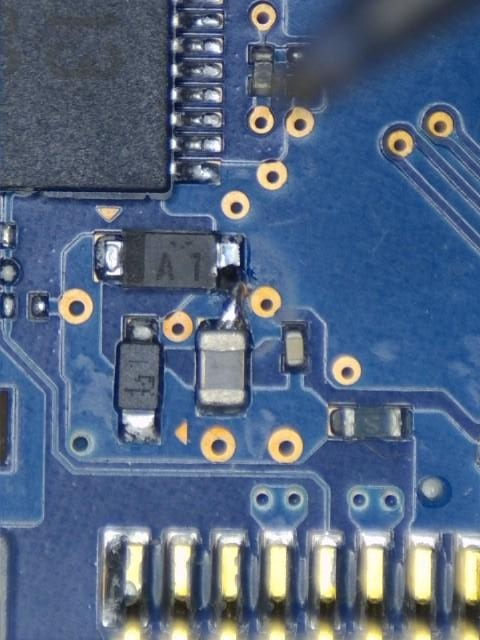pcb_defect: (196, 243, 249, 352)
